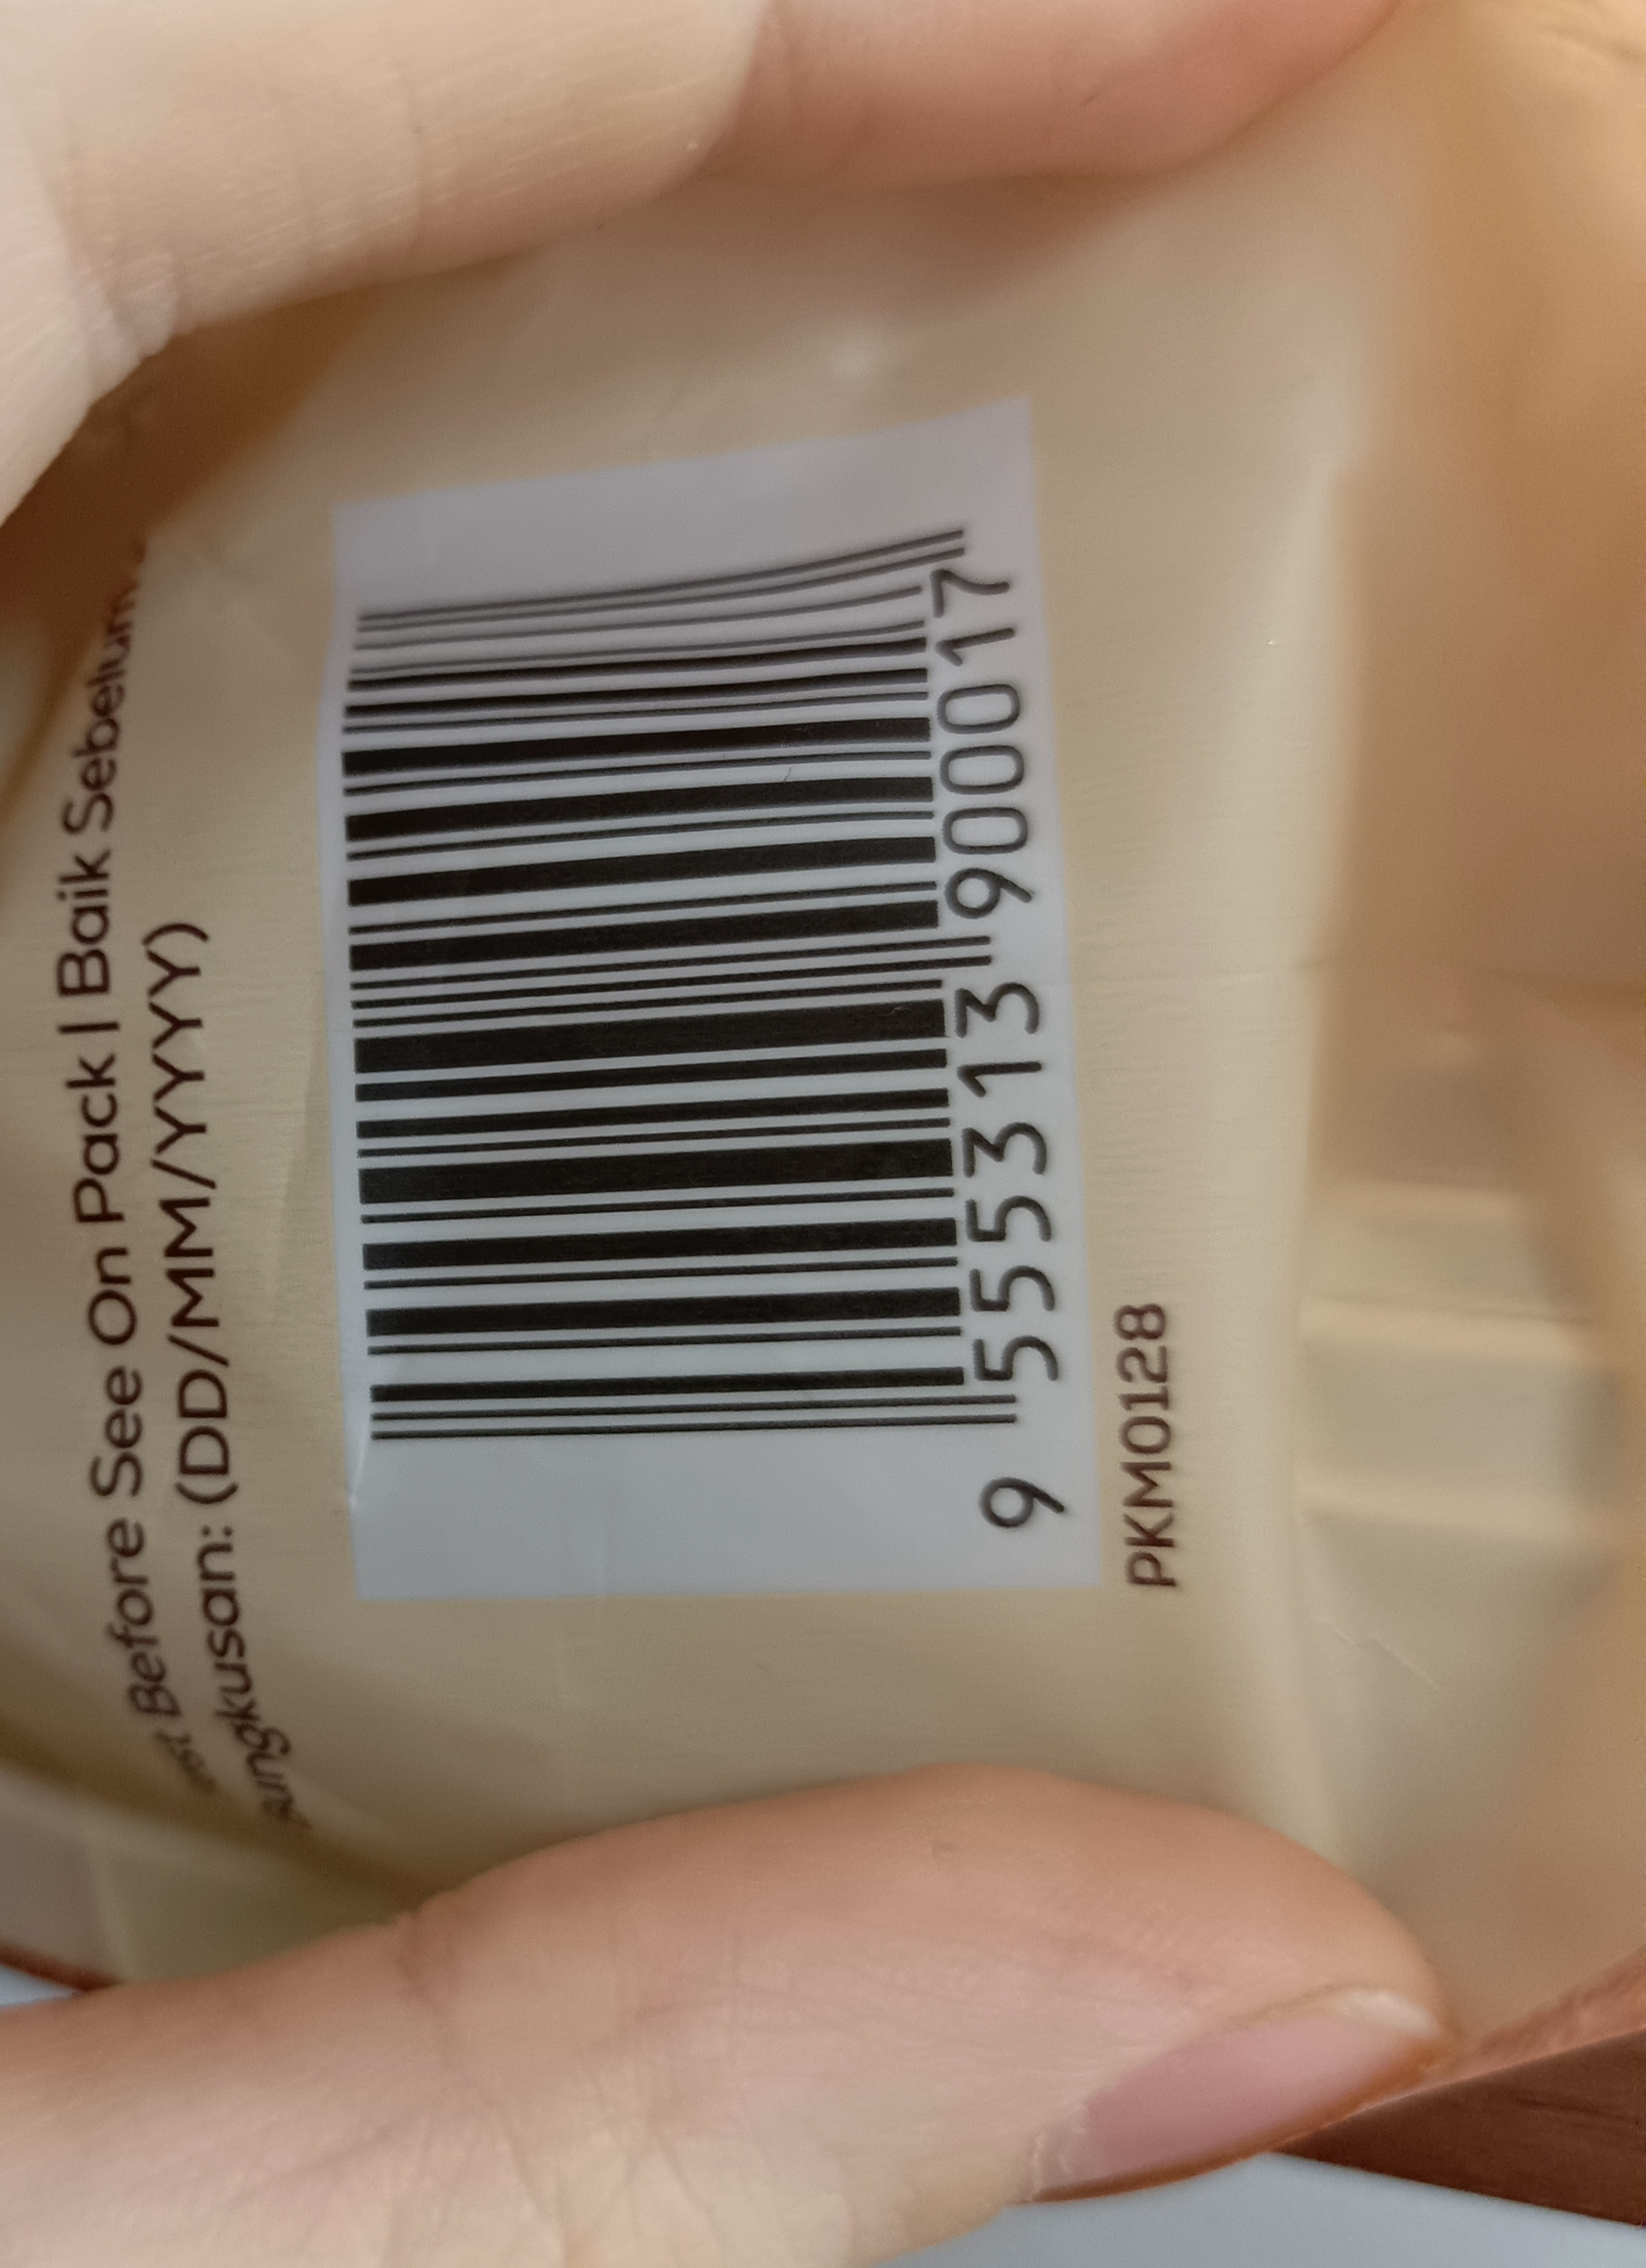1d: (342, 526, 961, 1447)
